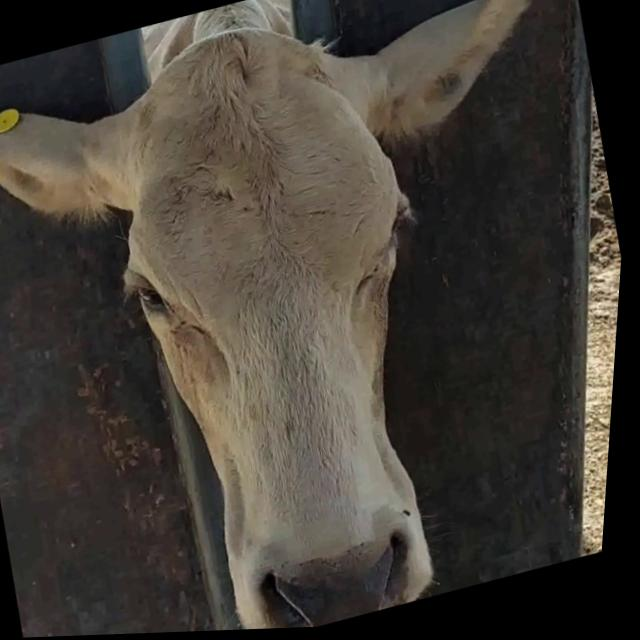cowFace: (50, 0, 507, 638)
